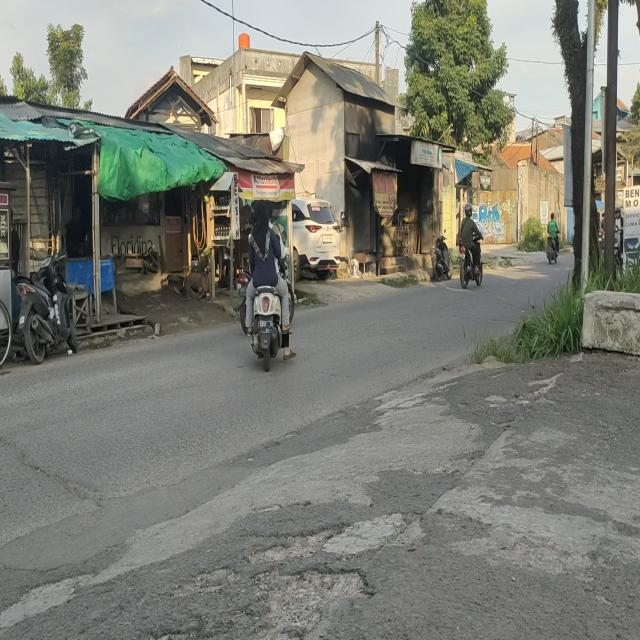helmet: (464, 202, 473, 218)
no-helmet: (252, 199, 265, 219), (265, 198, 273, 218), (550, 212, 554, 221)
